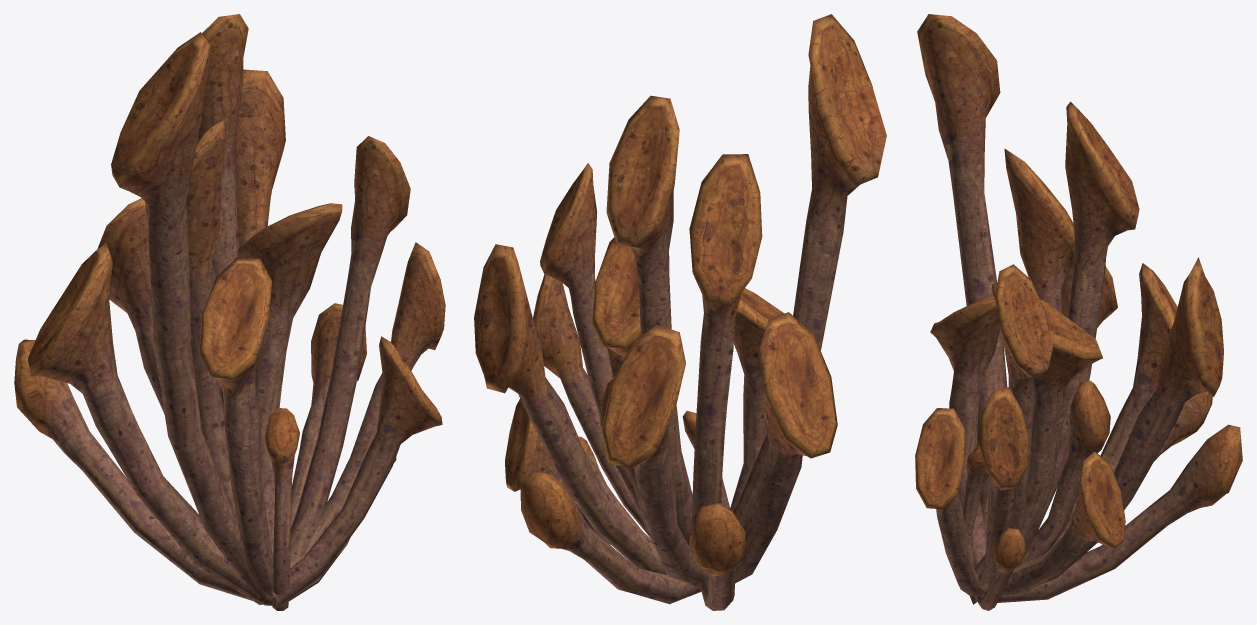
Rendered from Shroom_Plant2_2_L0.fbx.
3 renders of one model, left to right at view 1: azimuth 30°, elevation 25°; view 2: azimuth 150°, elevation 25°; view 3: azimuth 270°, elevation 25°, orthographic. The views are drawn at different scales.
Parts seen in each view (by area): view 1: polySurface286; view 2: polySurface286; view 3: polySurface286.
Boxes of the visible parts, x1=… form: polySurface286: x1=14, y1=14, x2=445, y2=610; polySurface286: x1=474, y1=14, x2=886, y2=610; polySurface286: x1=915, y1=14, x2=1242, y2=610.
Bounding box in the file's own units: 80.27 × 130 × 70.82.
